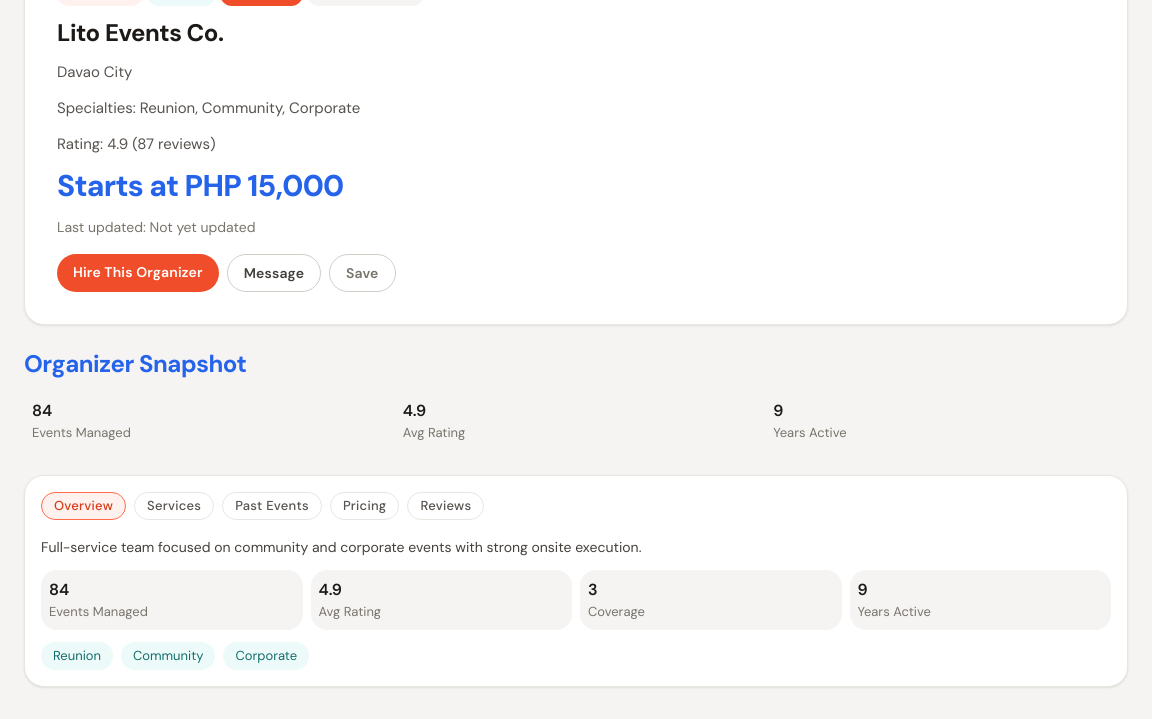
Marketplace pages smoke › renders organizer detail CTAs and tab content
The image size is (1152, 719).
(page scrolled)
Expected: the link "Hire This Organizer" is shown, [57,254,219,292]
Expected: the link "Message" is shown, [227,254,321,292]
Click the button "Pricing".
click(365, 506)  # box [330,492,400,520]
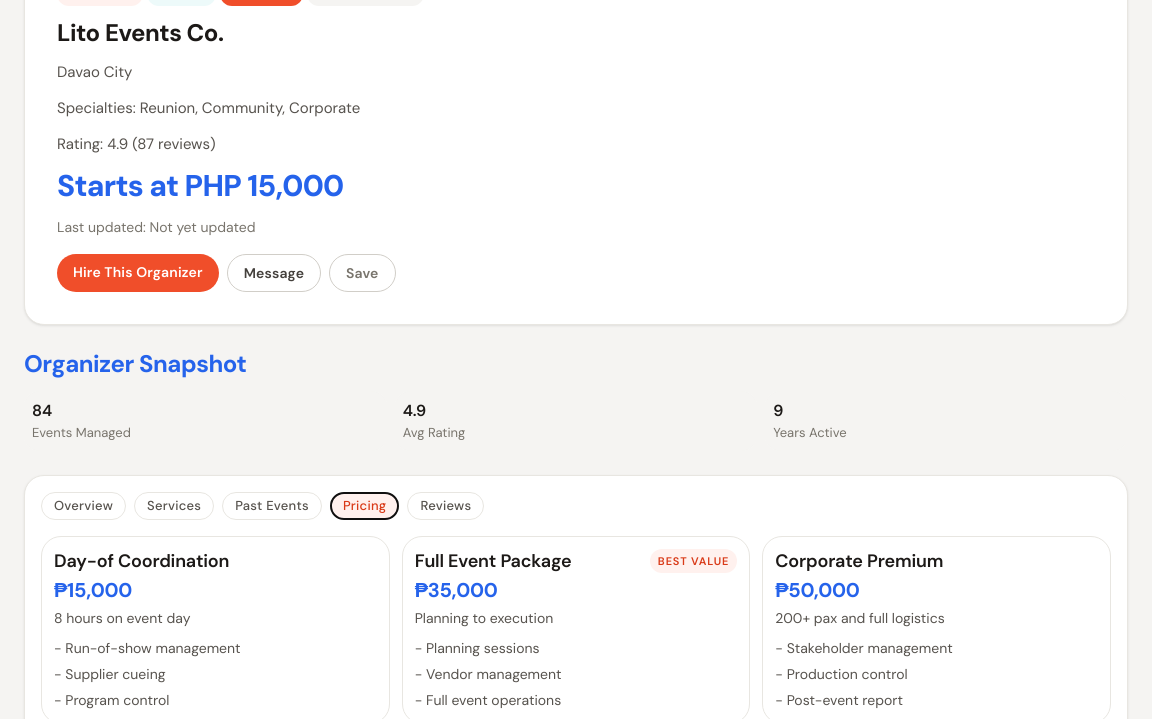
Expected: the heading "Day-of Coordination" is shown, [54,549,229,573]
